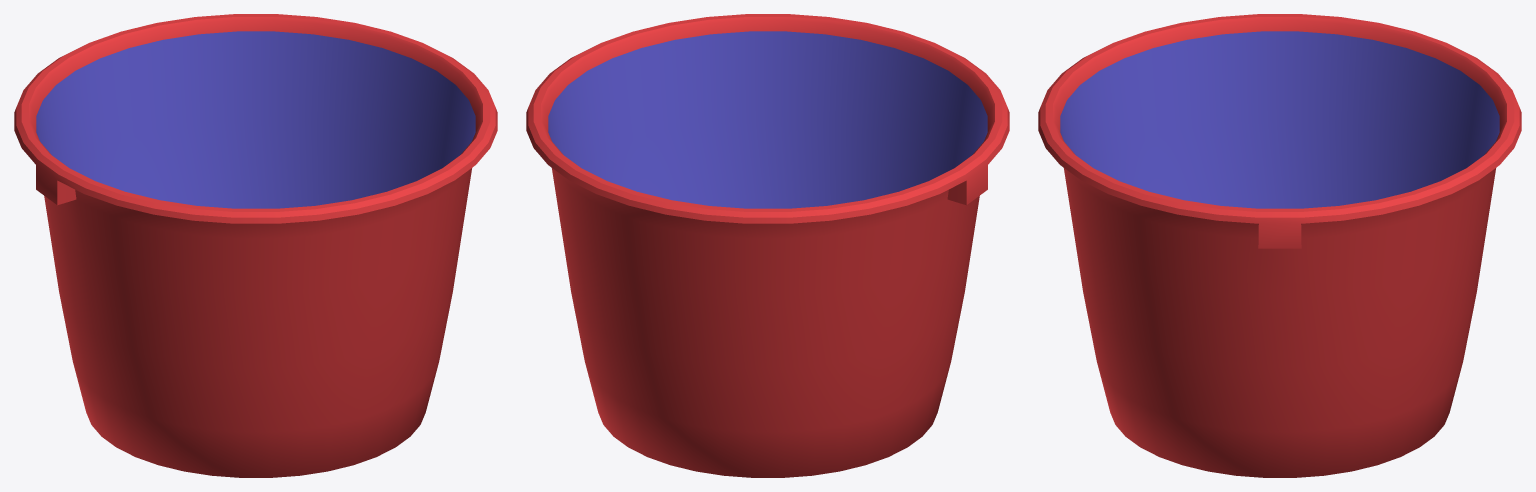
Rendered from kova.fbx.
The picture shows the model from 3 angles, left to right: view 1: azimuth 30°, elevation 25°; view 2: azimuth 150°, elevation 25°; view 3: azimuth 270°, elevation 25°; orthographic projection.
Parts seen in each view (by area): view 1: Bucket3, Bucket3.001; view 2: Bucket3, Bucket3.001; view 3: Bucket3, Bucket3.001.
Boxes of the visible parts, <box> form: Bucket3: <box>14,14,497,477</box>; Bucket3.001: <box>36,31,475,208</box>; Bucket3: <box>526,14,1009,477</box>; Bucket3.001: <box>548,31,987,208</box>; Bucket3: <box>1038,14,1521,477</box>; Bucket3.001: <box>1060,31,1499,208</box>.
Size of the model in its own units: 23.78 by 15.92 by 23.78.
